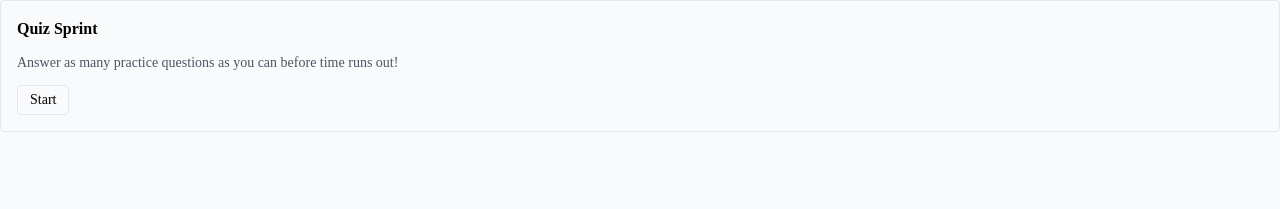
Scenario: QuizSprintGame › starts the round and shows a question with options
What coordinates should you click on to do the following:
click the button "Start"
I would click on:
 (43, 100)
Its box is [17,85,70,115].
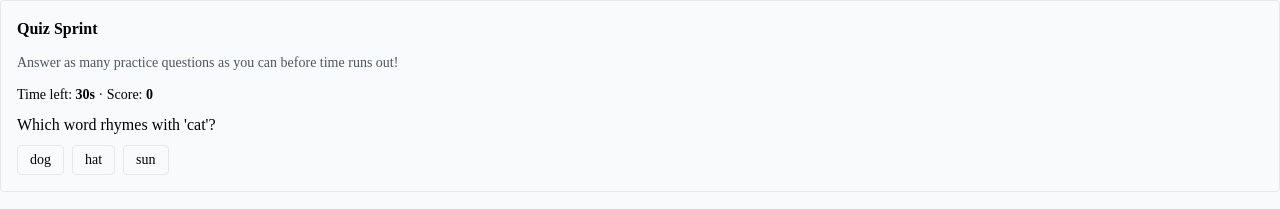
Check: the text "Which word rhymes with 'cat'?" is shown, box [17,116,216,133]
Check: the button "hat" is shown, box [72,145,115,175]
